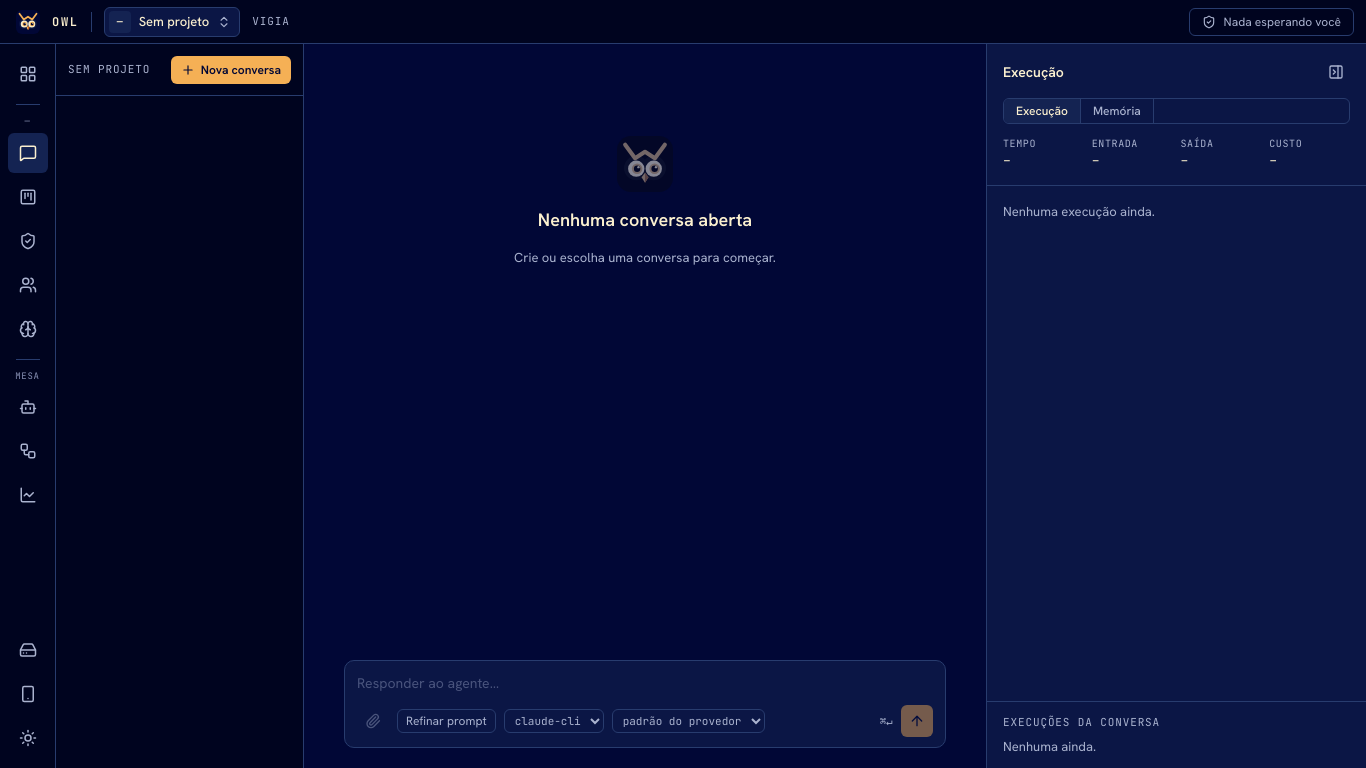
Test: storage settings › saves the retention and starts a backup on demand
Click the button named "Lixeira e armazenamento" at (28, 650), box [8, 630, 48, 670]
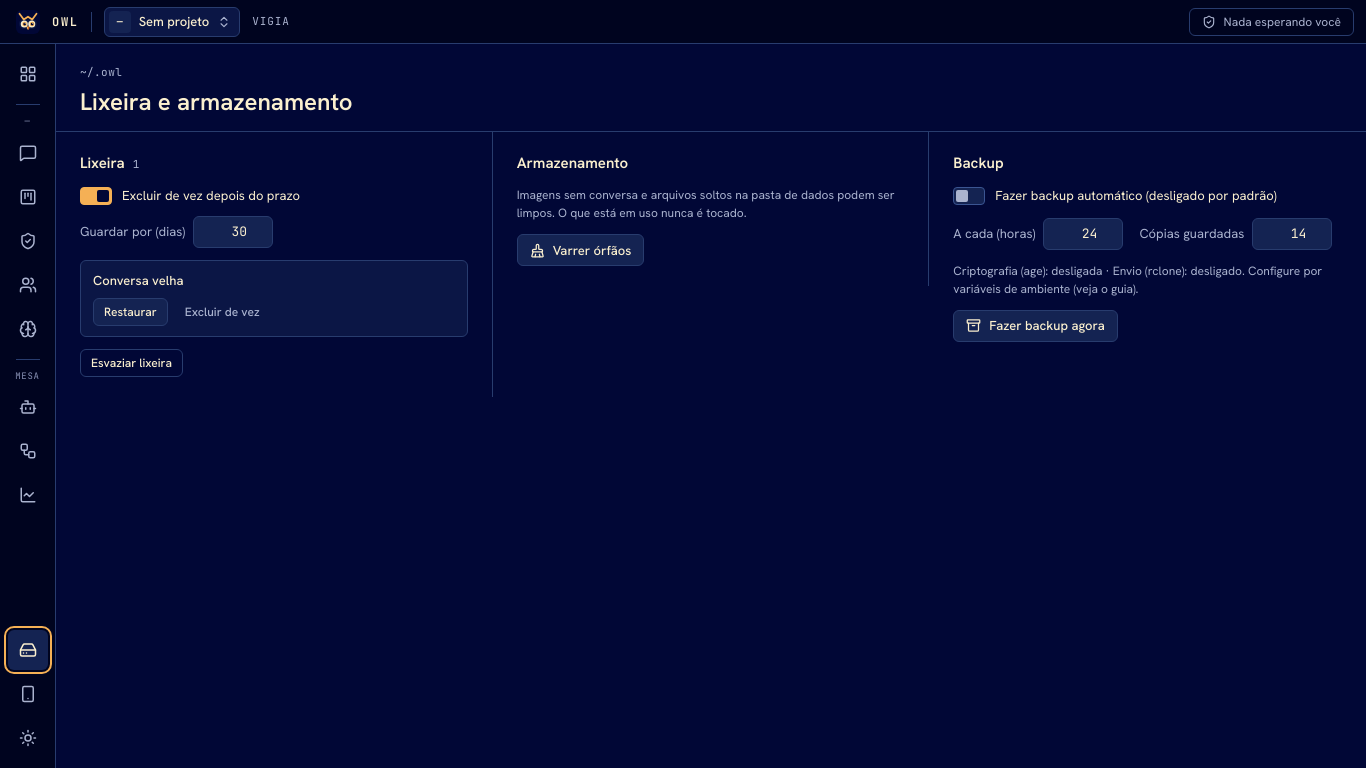
Replace the text in the number field labelled "Guardar por (dias)" with "7" at (233, 232), box [193, 216, 273, 248]
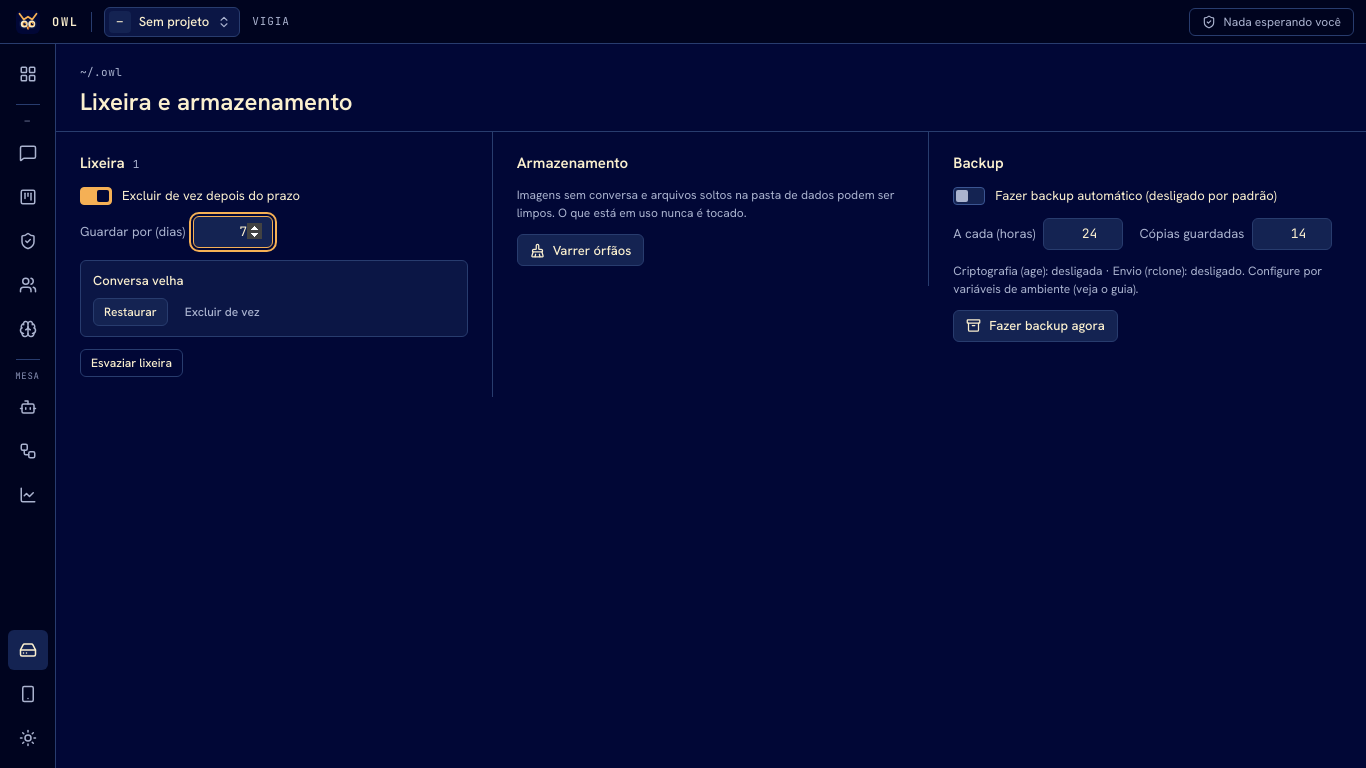
Press Tab
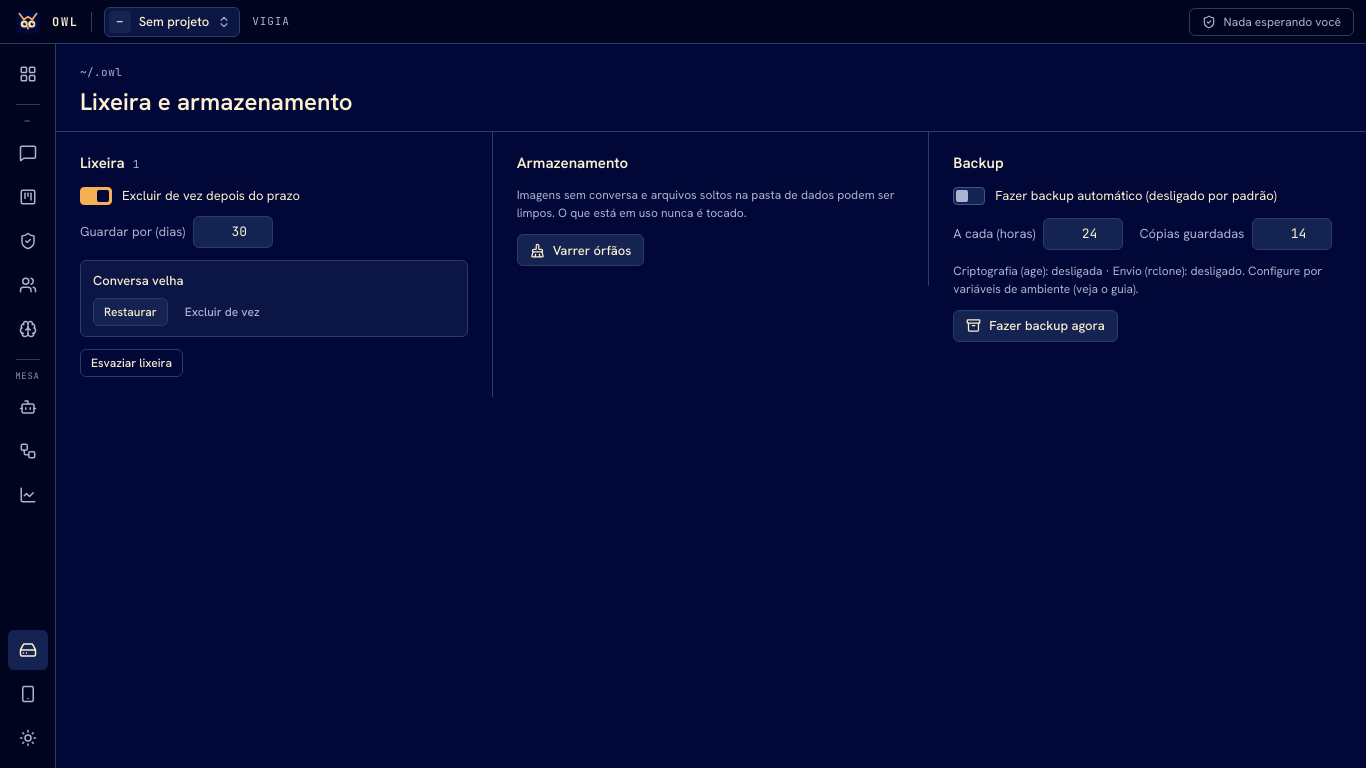
Click the button "Fazer backup agora" at (1036, 326), box [953, 310, 1118, 342]
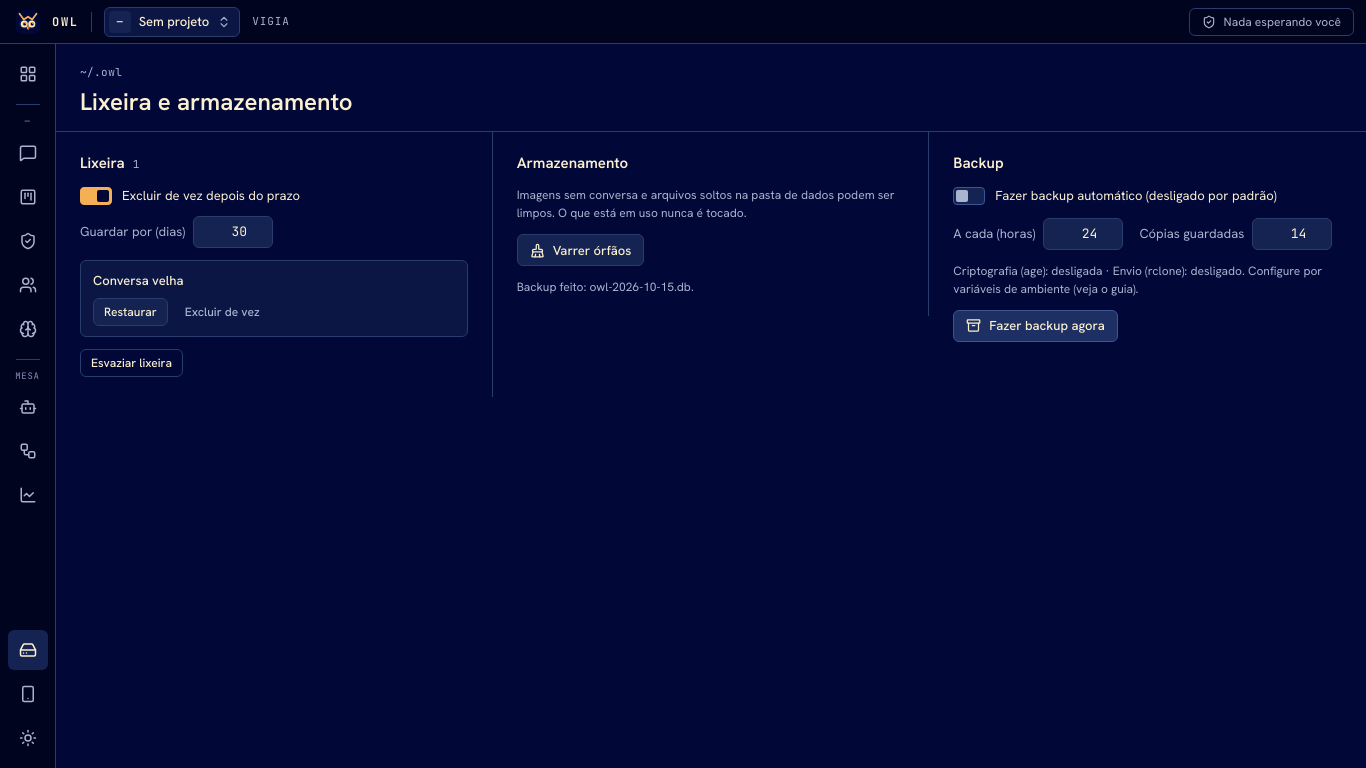
Now the text "Backup feito: owl-2026-10-15.db." is shown, box [517, 279, 694, 295]
